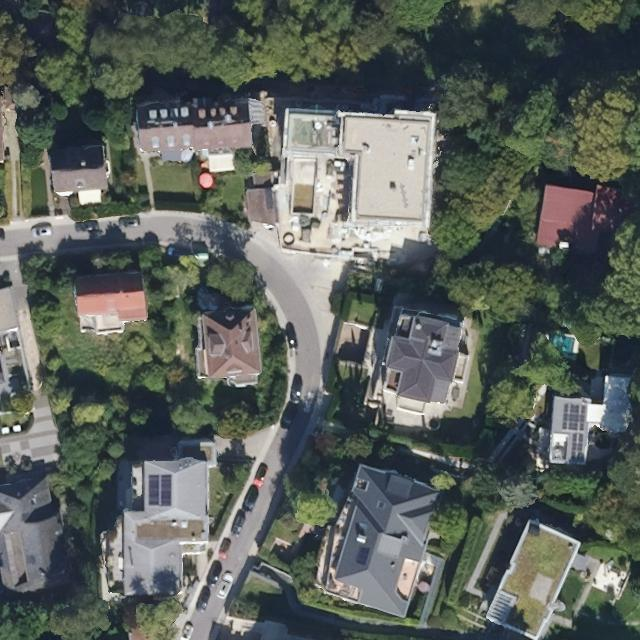PV: (561, 402, 587, 464), (148, 474, 170, 506), (354, 546, 371, 567)
